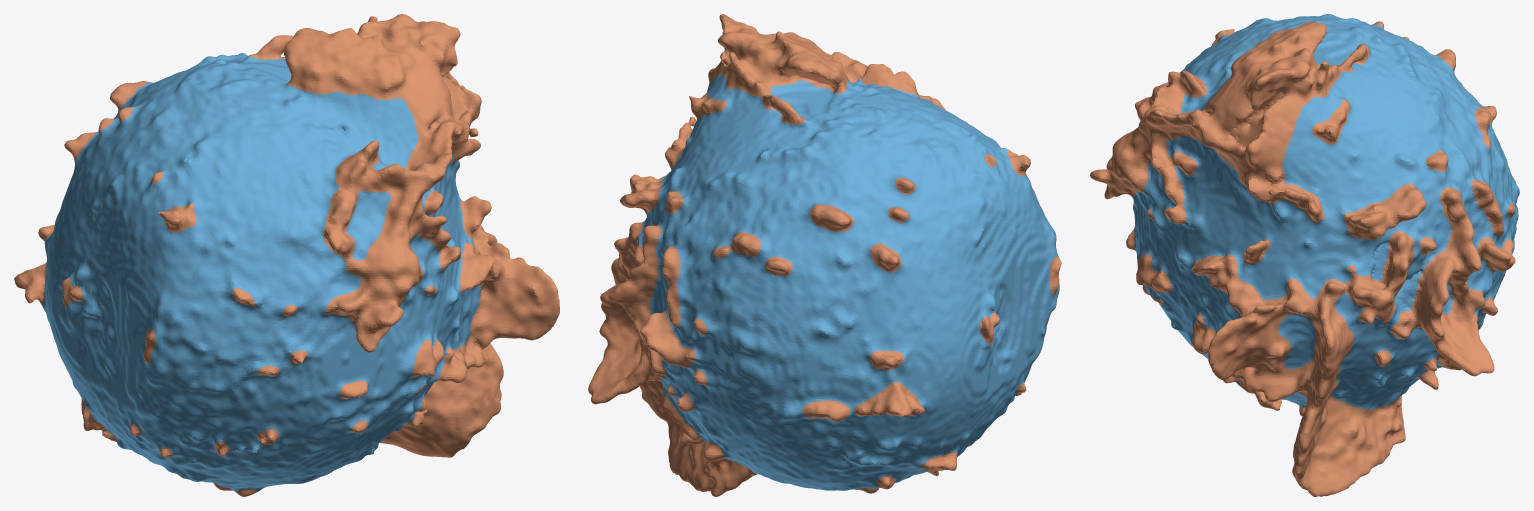
The picture shows the model from 3 angles, left to right: view 1: azimuth 30°, elevation 25°; view 2: azimuth 150°, elevation 25°; view 3: azimuth 270°, elevation 25°; orthographic projection. The views are drawn at different scales.
Bounding box in the file's own units: 161 × 170 × 159.
